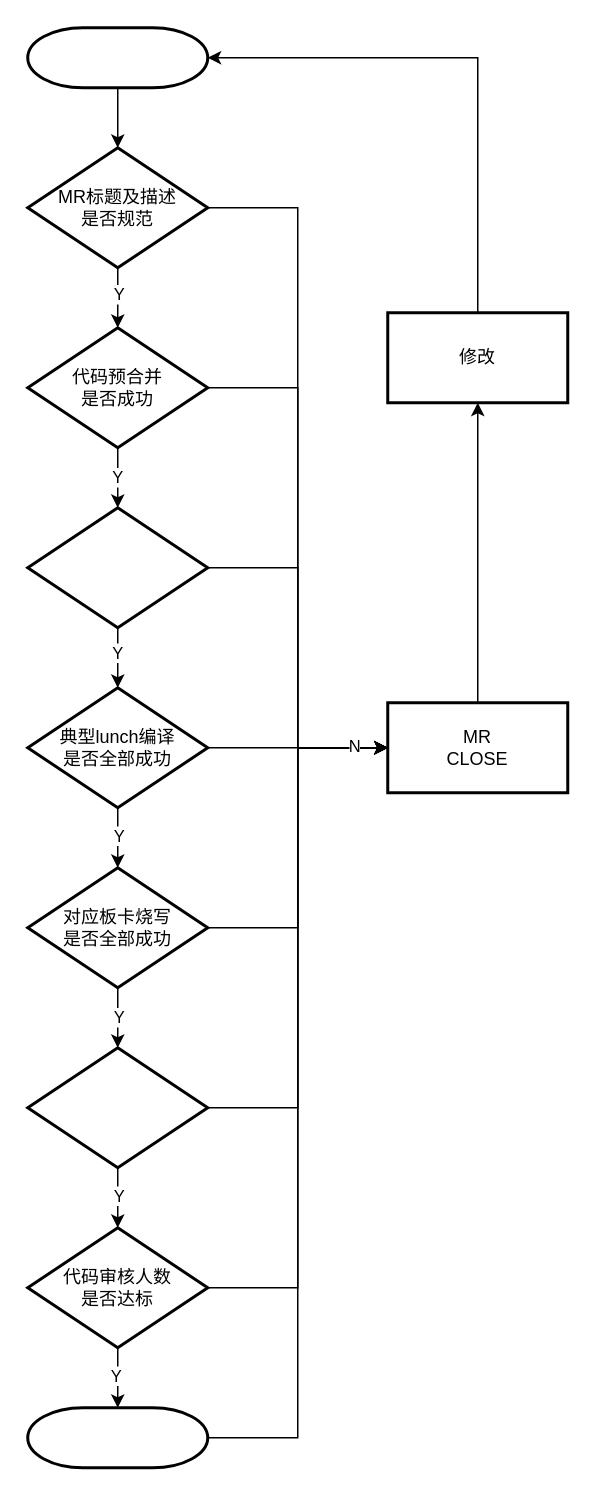
This 594x1494 diagram has some shape labels left out. Here are the shapes that lost their labels. From the top down, the centre of each, then its label:
At (117,57): "MR OPEN/REOPEN".
At (117,567): "代码扫描 是否符合要求".
At (117,1107): "对应板卡 测试 是否全部成功".
At (117,1437): "MR MERGE".
